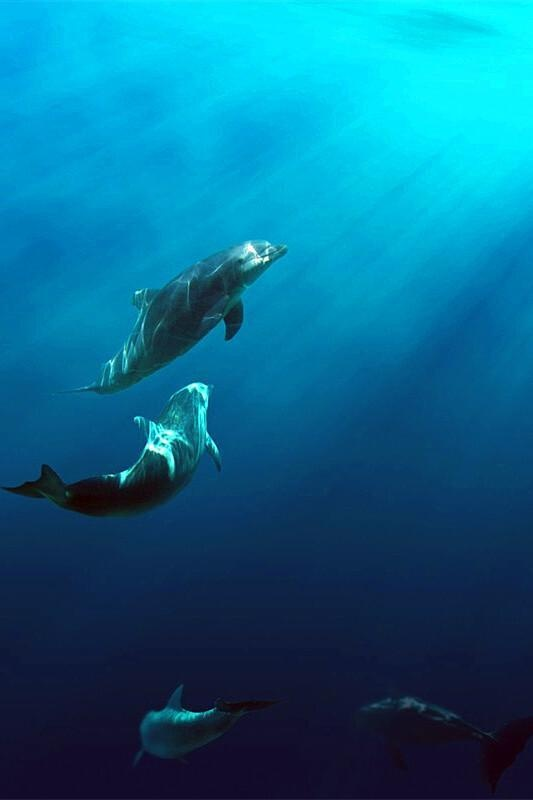fish: (63, 237, 288, 404), (7, 384, 225, 519), (353, 695, 533, 773), (127, 683, 268, 771)
